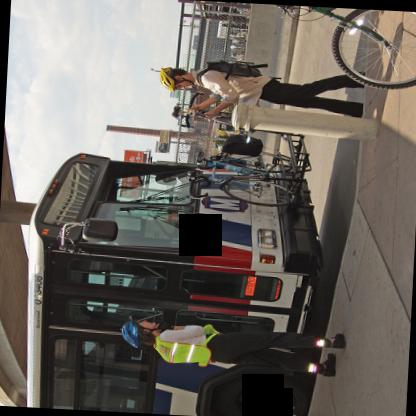backpack: (196, 59, 269, 86)
